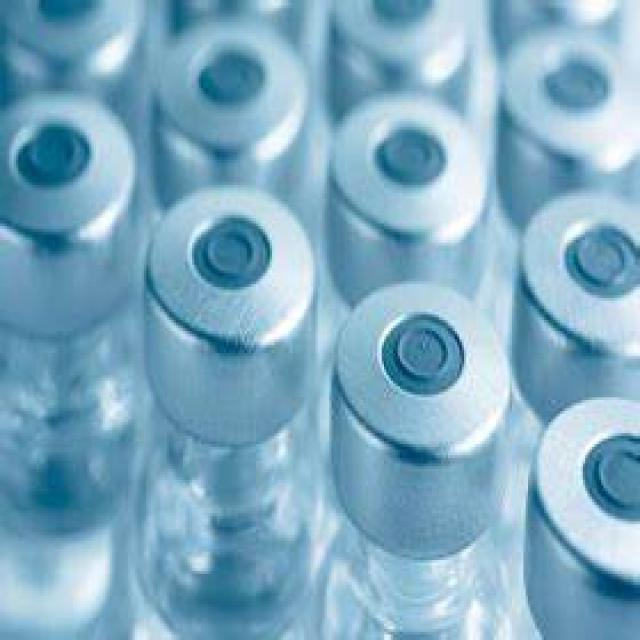vial: (146, 193, 308, 376), (341, 278, 493, 462), (326, 100, 476, 243), (143, 36, 304, 167), (520, 395, 640, 557), (524, 186, 640, 348), (1, 104, 124, 248), (506, 20, 636, 154), (303, 0, 470, 72), (5, 0, 144, 66), (178, 0, 272, 12)
